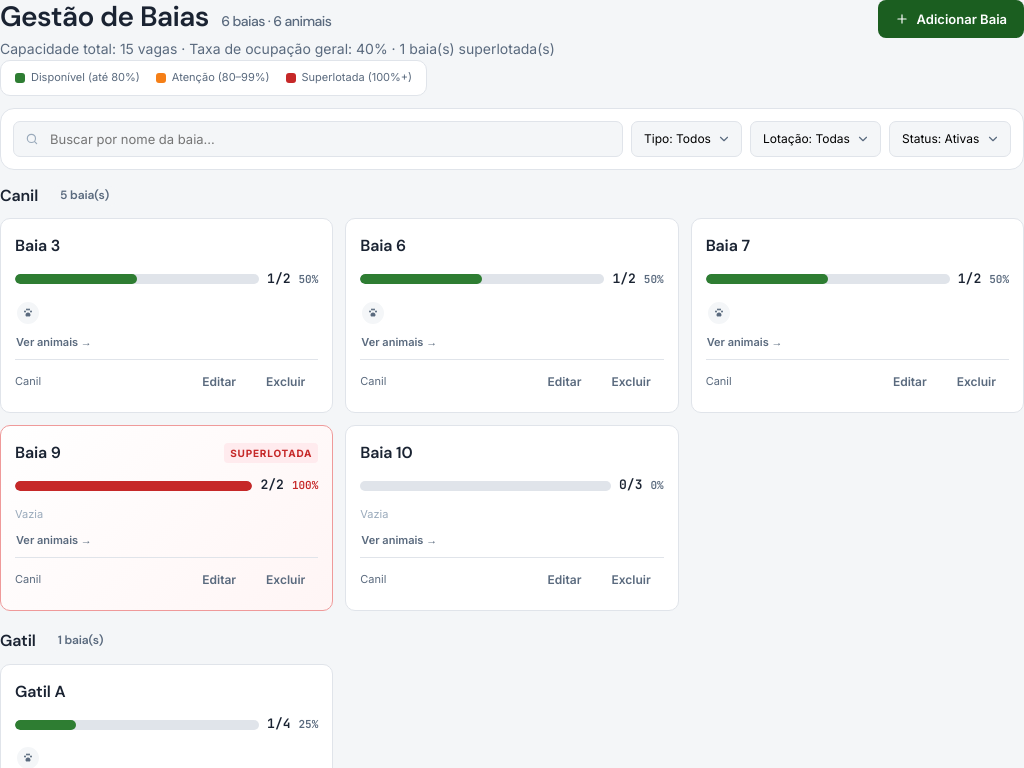
Test: GestaoBaias › edita a capacidade de uma baia existente
Click the button "Editar" below "Baia 3" at (219, 382), box [189, 366, 249, 398]
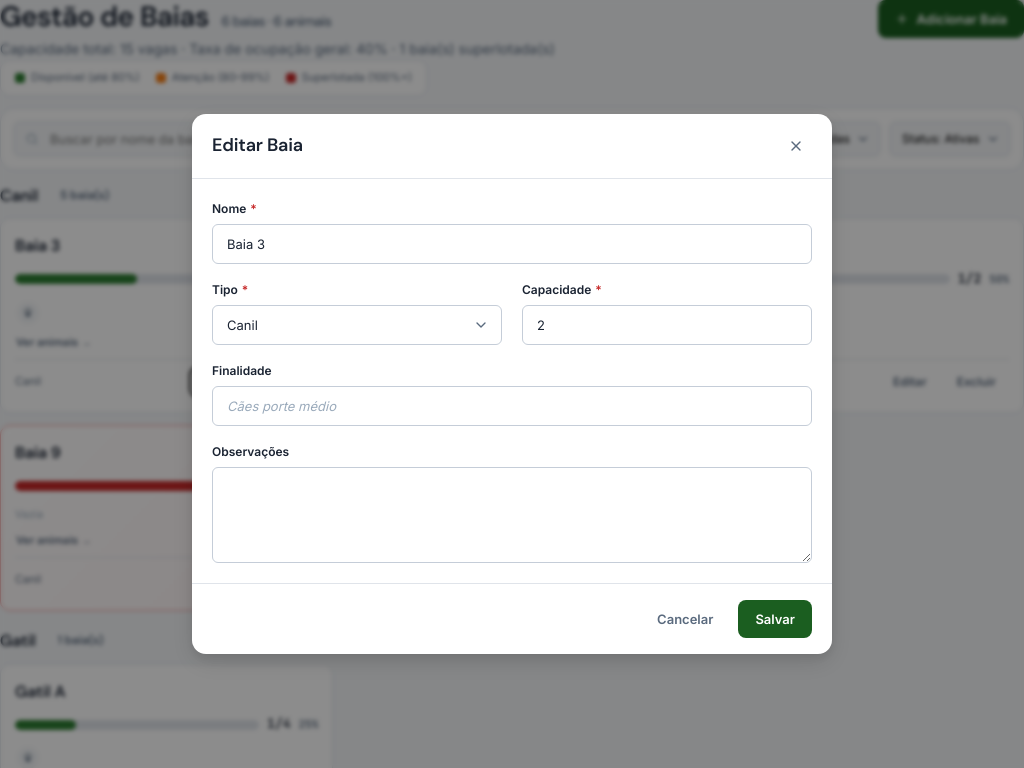
Replace the text in the number field labelled "Capacidade *" with "5" at (667, 325), box [522, 305, 812, 345]
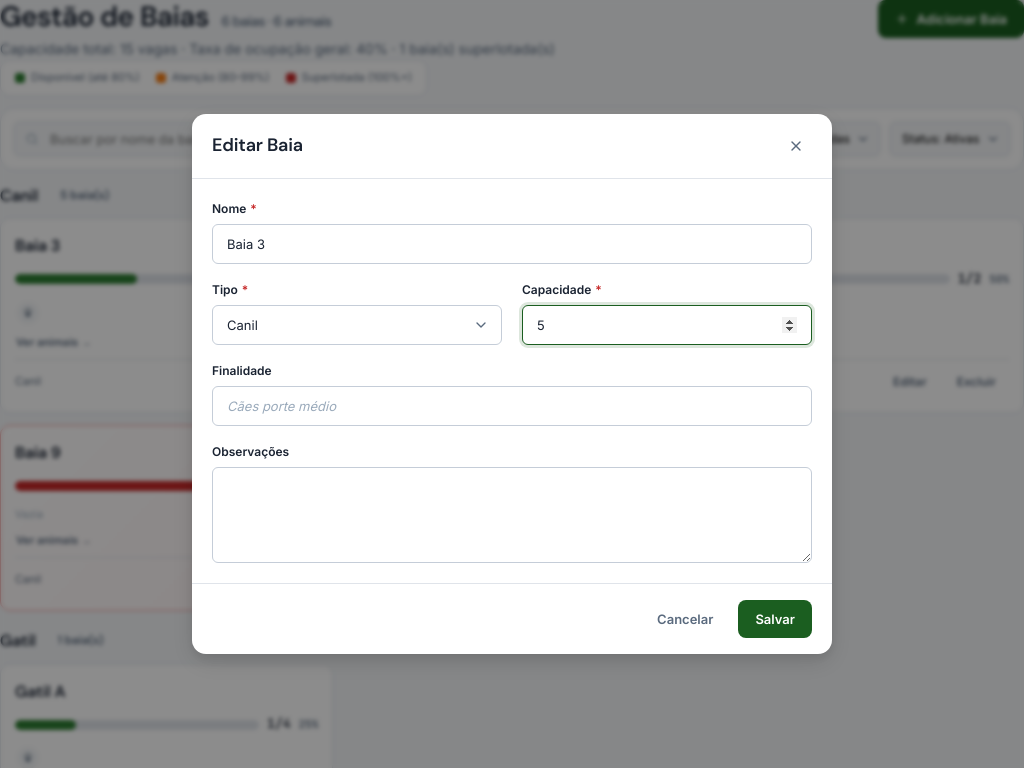
Click the button "Salvar" at (775, 619), box [738, 600, 812, 638]
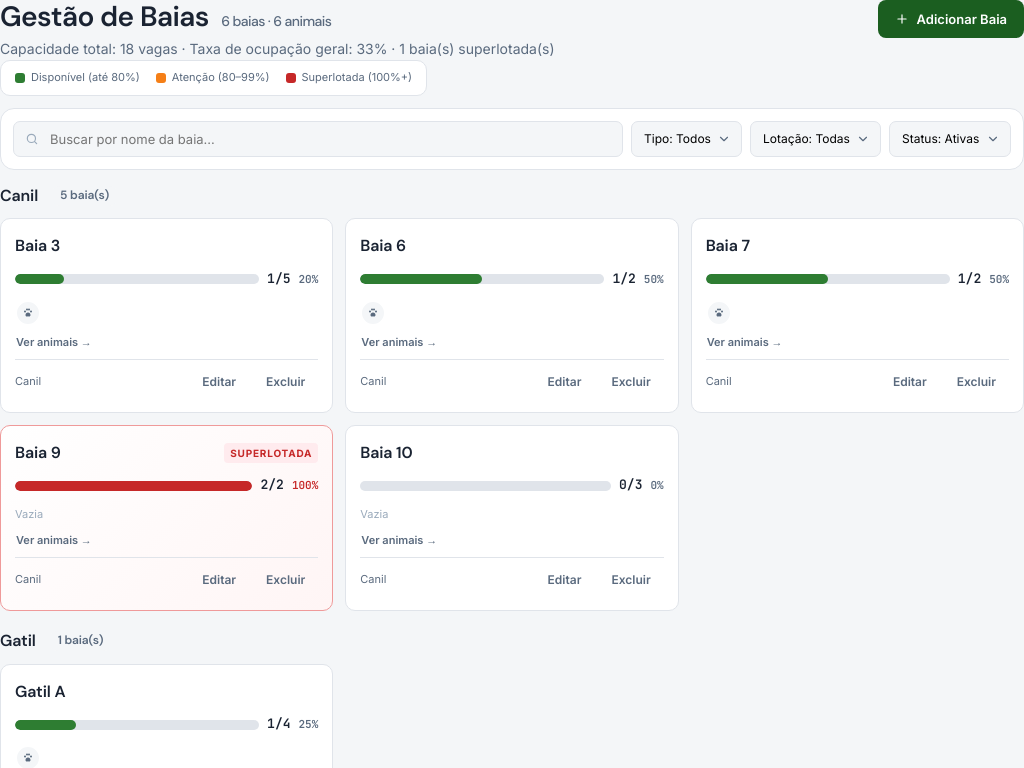
Result: the text "1/5" is shown at [267, 269, 290, 290]
